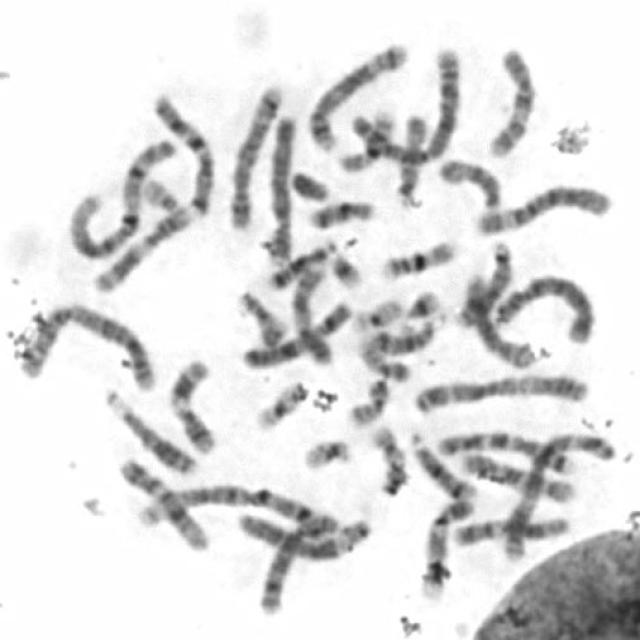A1: (64, 130, 178, 262), (126, 478, 338, 536)
A2: (342, 41, 464, 168), (11, 294, 160, 394)
A3: (497, 425, 619, 564), (406, 365, 593, 414)
B4: (488, 267, 597, 344), (262, 107, 301, 266)
B5: (304, 35, 412, 153), (222, 76, 286, 233)
C10: (455, 446, 577, 506), (481, 39, 538, 159)
C11: (84, 199, 194, 296), (163, 352, 219, 456)
C12: (111, 451, 212, 554), (446, 507, 573, 549)
C6: (468, 176, 613, 237), (232, 503, 374, 563)
C7: (147, 87, 219, 218), (432, 424, 580, 476)
C8: (253, 504, 343, 618), (459, 266, 539, 370)
C9: (415, 489, 479, 601), (287, 261, 335, 366)
D13: (99, 383, 201, 477), (452, 236, 516, 328)
D14: (404, 427, 476, 502), (359, 313, 442, 356)
D15: (434, 151, 506, 214), (392, 107, 433, 207)
E16: (335, 100, 401, 173), (374, 233, 460, 283)
E17: (232, 286, 288, 350), (365, 418, 410, 496)
E18: (263, 238, 339, 290), (302, 192, 378, 230)
F19: (248, 374, 311, 433), (347, 291, 406, 335)
F20: (341, 371, 391, 429), (353, 335, 413, 383)
G21: (398, 282, 444, 322), (325, 245, 366, 289)
G22: (296, 431, 354, 472), (136, 171, 184, 215)
X: (239, 295, 357, 370)
Y: (286, 163, 332, 203)
